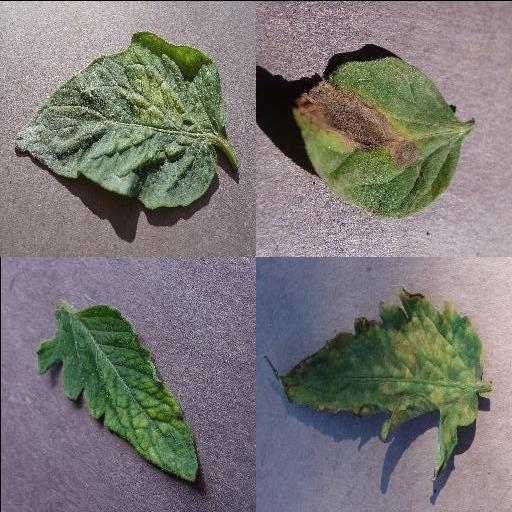Early Blight: (292, 55, 468, 221)
Leaf Mold: (279, 285, 485, 477)
Mosaic Virus: (34, 304, 198, 482)
Spider Mites: (13, 30, 223, 210)
